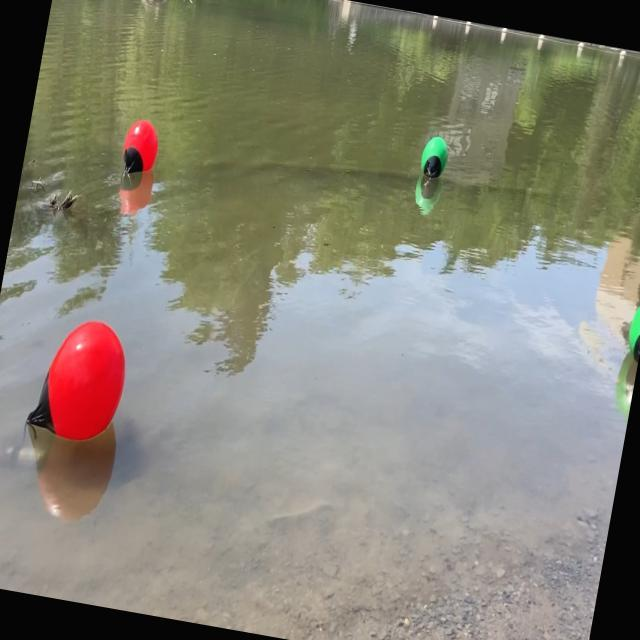buoy: (21, 308, 138, 451), (116, 112, 165, 186), (415, 130, 453, 186), (620, 290, 640, 368)
